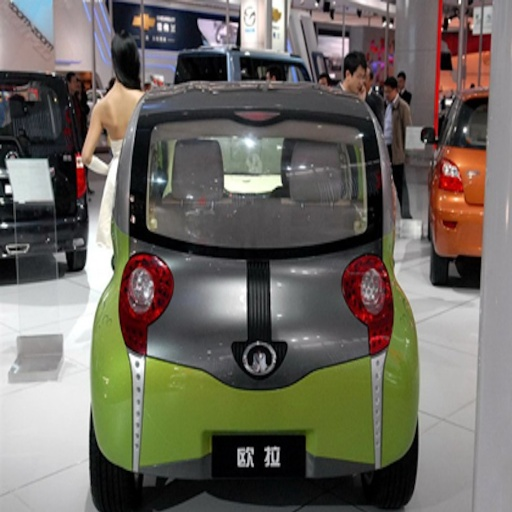back_right_light: (352, 268, 390, 356)
tailgate: (276, 196, 344, 243), (260, 125, 355, 158)
trunk: (148, 190, 292, 415), (265, 293, 368, 387), (163, 96, 325, 149)
